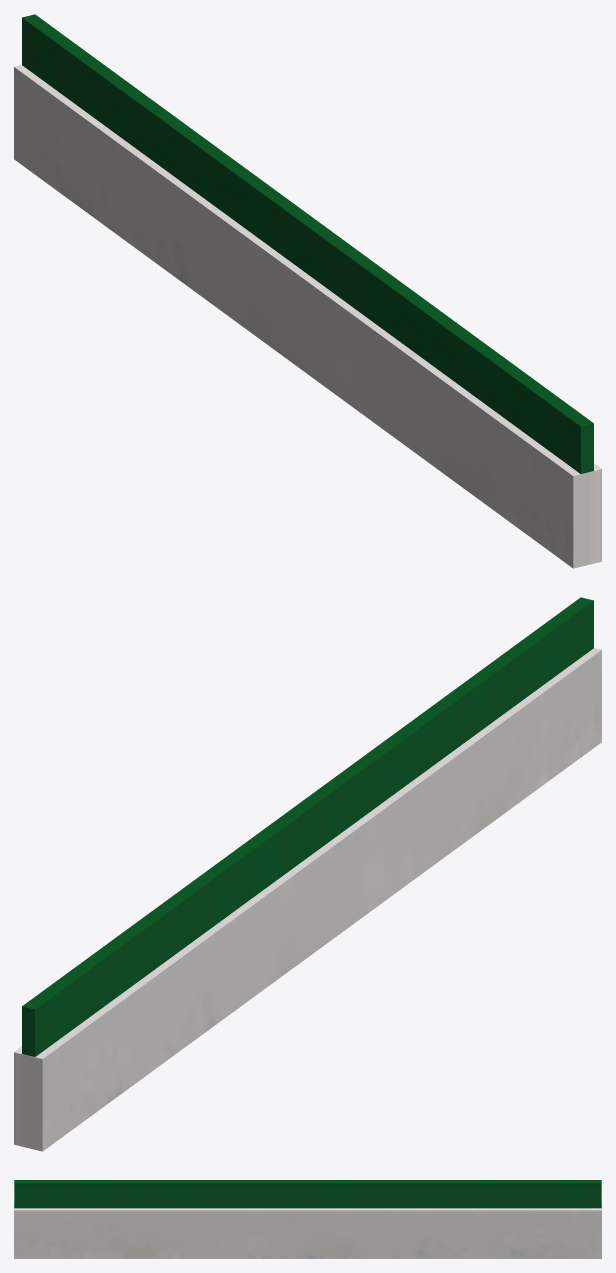
Rendered from baquedanovacio.fbx.
3 views of the same model, one above another, from view 1: azimuth 30°, elevation 25°; view 2: azimuth 150°, elevation 25°; view 3: azimuth 270°, elevation 25° (orthographic). The views are drawn at different scales.
Visible parts, largest first — view 1: Cube.057; view 2: Cube.057; view 3: Cube.057.
Boxes of the visible parts, x1=… form: Cube.057: x1=14, y1=14, x2=601, y2=568; Cube.057: x1=14, y1=597, x2=601, y2=1151; Cube.057: x1=14, y1=1180, x2=601, y2=1258.
Bounding box in the file's own units: 7.92 × 36.96 × 268.
